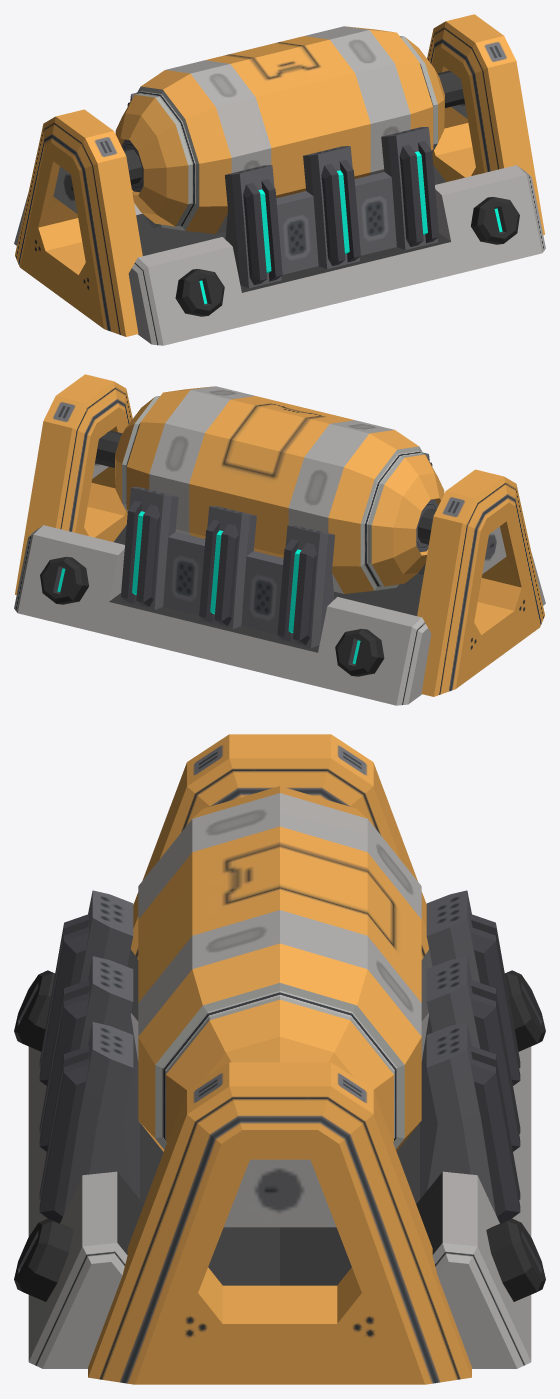
The model's file is worlds_SM_Bld_Greeble_28.gltf.
3 views of the same model, one above another, from view 1: azimuth 30°, elevation 25°; view 2: azimuth 150°, elevation 25°; view 3: azimuth 270°, elevation 25° (orthographic). The views are drawn at different scales.
Parts seen in each view (by area): view 1: SM_Bld_Greeble_28; view 2: SM_Bld_Greeble_28; view 3: SM_Bld_Greeble_28.
Part boxes in pixels (x1,y1,x2,y2): SM_Bld_Greeble_28: [14, 14, 545, 345]; SM_Bld_Greeble_28: [14, 374, 545, 705]; SM_Bld_Greeble_28: [14, 734, 545, 1384].
Bounding box in the file's own units: 1.79 × 0.7646 × 1.1.
1 material, 1 textured.
